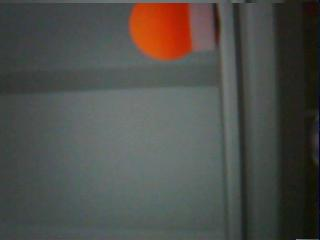oball: (128, 4, 190, 59)
